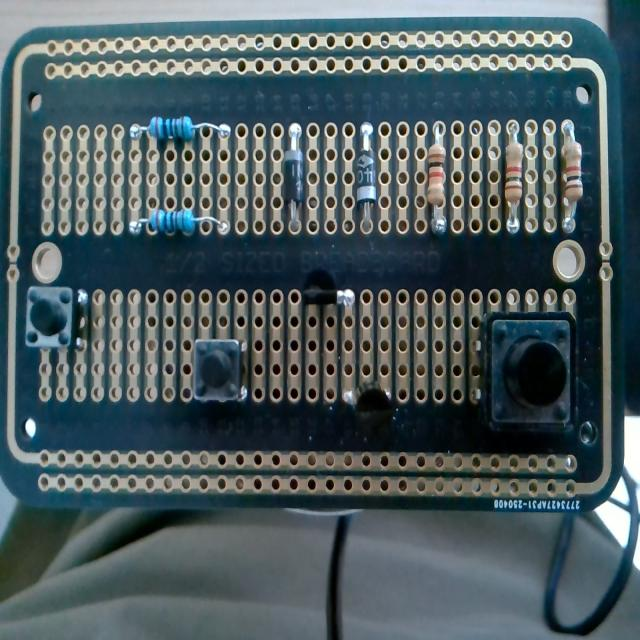diode: (356, 125, 377, 234), (284, 123, 304, 229), (427, 125, 446, 234)
resistor: (559, 119, 586, 236), (128, 208, 228, 236), (130, 114, 230, 140), (505, 126, 523, 232)
switch: (484, 312, 575, 429), (24, 286, 80, 352), (192, 337, 246, 402)
transistor: (294, 262, 364, 318), (338, 377, 396, 428)
